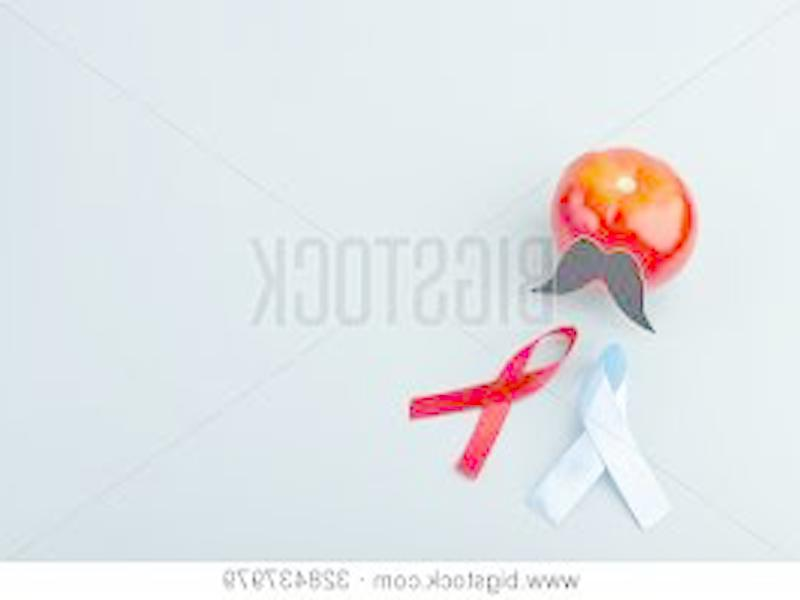Tomato: (549, 146, 697, 292)
